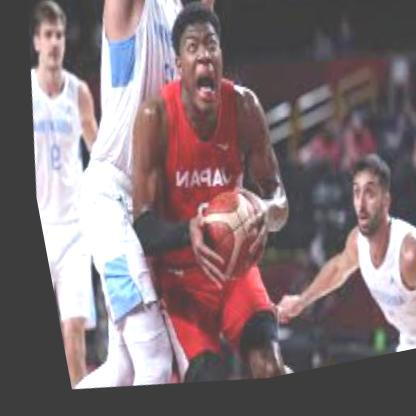basketball: (177, 190, 265, 299)
